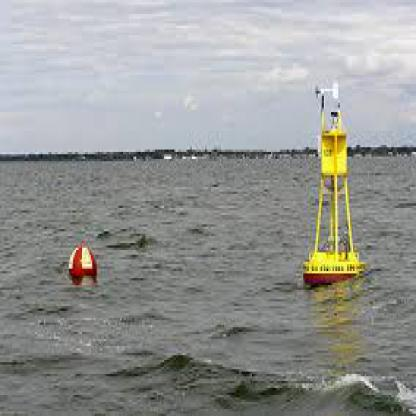buoy: (297, 70, 369, 295)
